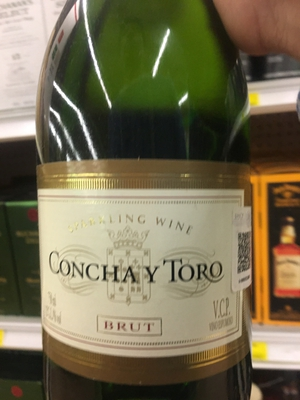brut: (38, 14, 254, 400)
